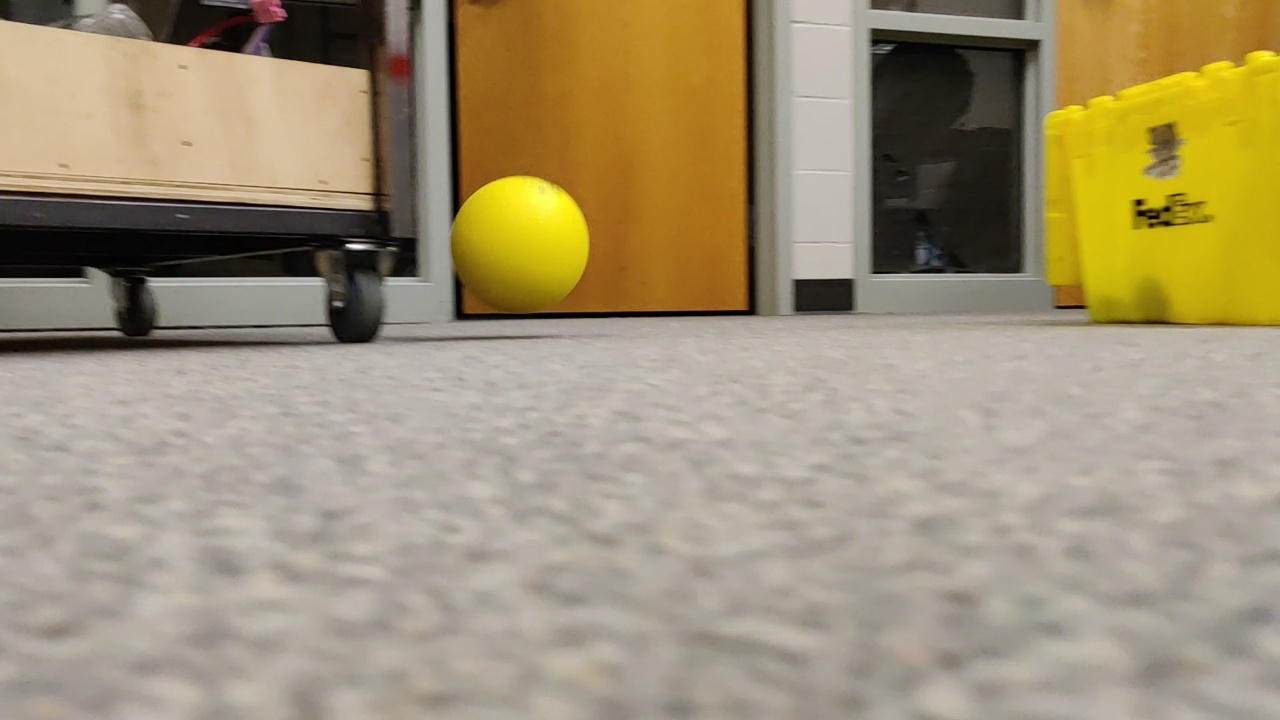Ball: (439, 164, 585, 312)
